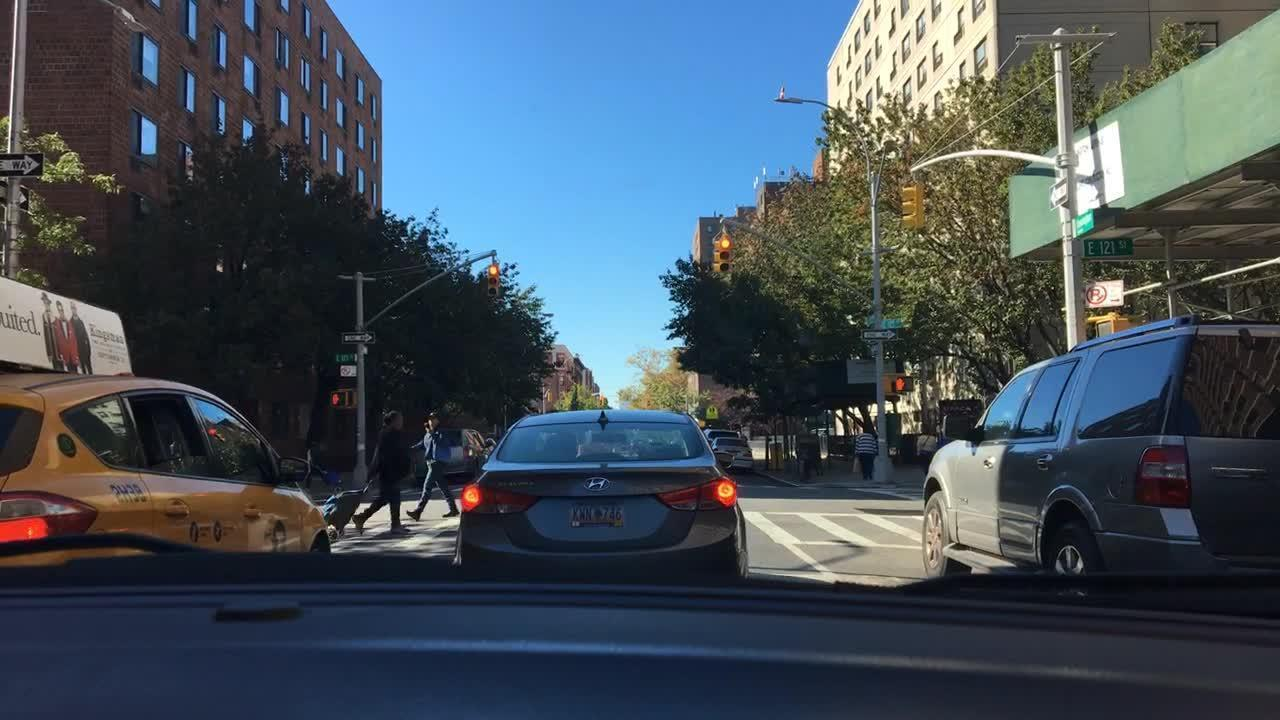Hyundai: (577, 471, 611, 494)
